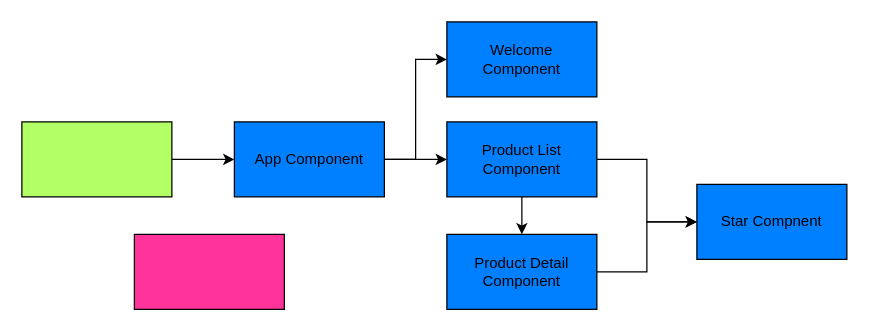
Some shapes in this 869 by 331 pixel diagram are drawn without their labels. The centre of each missing label's shape, as x and y in pixels:
index.html: pixel 96 159
Product Data Service: pixel 208 271
